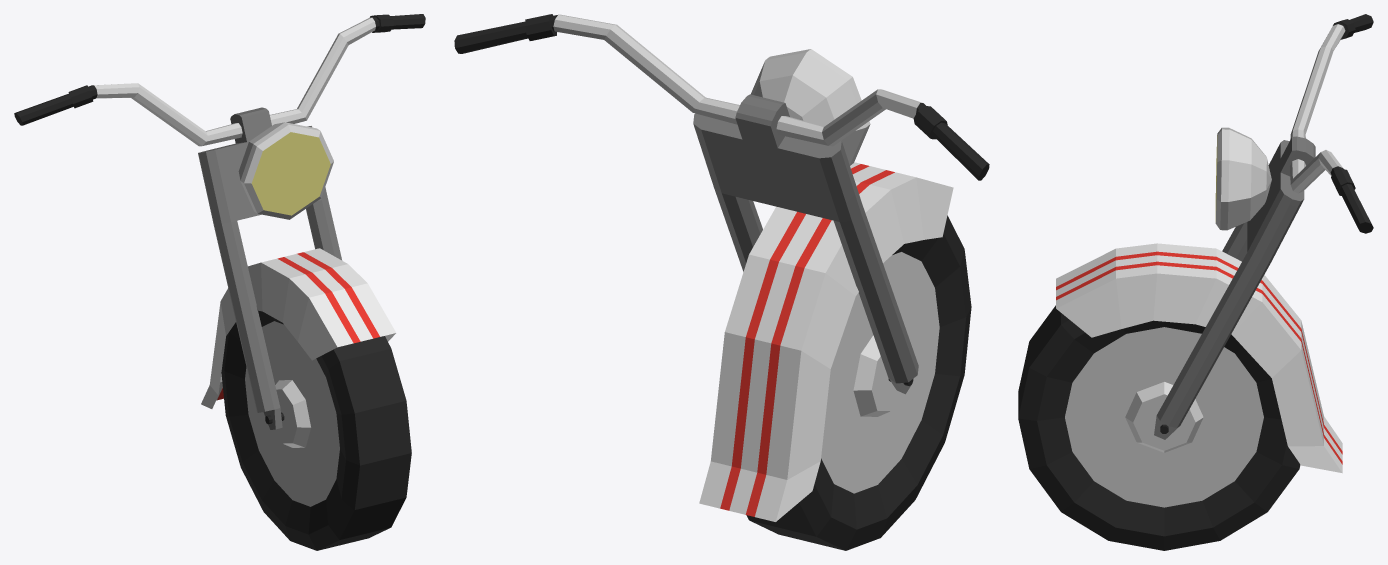
Rendered from Motorcycle_02_Stearing_Wheel.fbx.
The picture shows the model from 3 angles, left to right: view 1: azimuth 30°, elevation 25°; view 2: azimuth 150°, elevation 25°; view 3: azimuth 270°, elevation 25°; orthographic projection. The views are drawn at different scales.
Parts seen in each view (by area): view 1: Motorcycle_02_Stearing_Wheel, Motorcycle_02_Wheel_01; view 2: Motorcycle_02_Stearing_Wheel, Motorcycle_02_Wheel_01; view 3: Motorcycle_02_Wheel_01, Motorcycle_02_Stearing_Wheel.
Part boxes in pixels (x1=…): Motorcycle_02_Stearing_Wheel: x1=14, y1=14, x2=425, y2=429; Motorcycle_02_Wheel_01: x1=221, y1=310, x2=411, y2=550; Motorcycle_02_Stearing_Wheel: x1=454, y1=14, x2=989, y2=521; Motorcycle_02_Wheel_01: x1=746, y1=215, x2=971, y2=550; Motorcycle_02_Wheel_01: x1=1018, y1=305, x2=1300, y2=550; Motorcycle_02_Stearing_Wheel: x1=1056, y1=14, x2=1373, y2=473.
Bounding box in the file's own units: 156 × 154 × 112.
